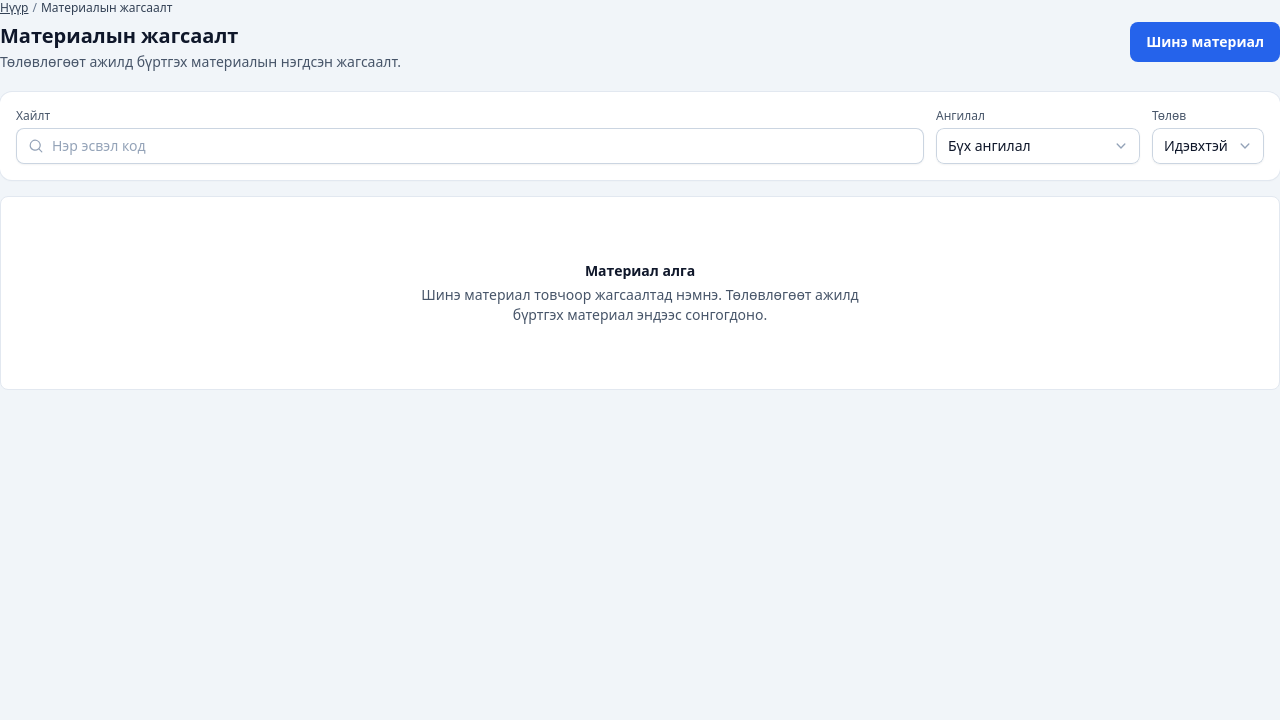
MaterialsPage › surfaces a duplicate-code rejection from the server against the field
Click the button "Шинэ материал": click(1205, 42) [1130,22,1279,62]
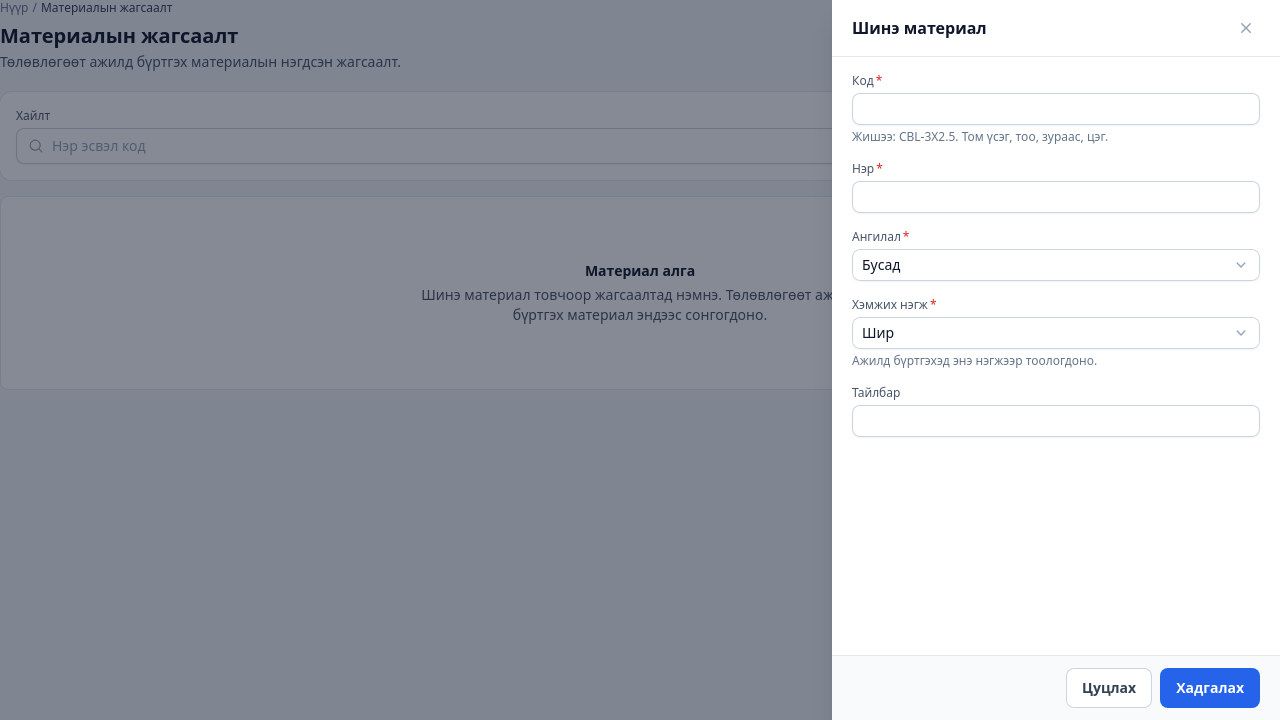
In the field labelled "Код*": (1056, 109) [852,93,1260,125], type "CBL-3X2.5"
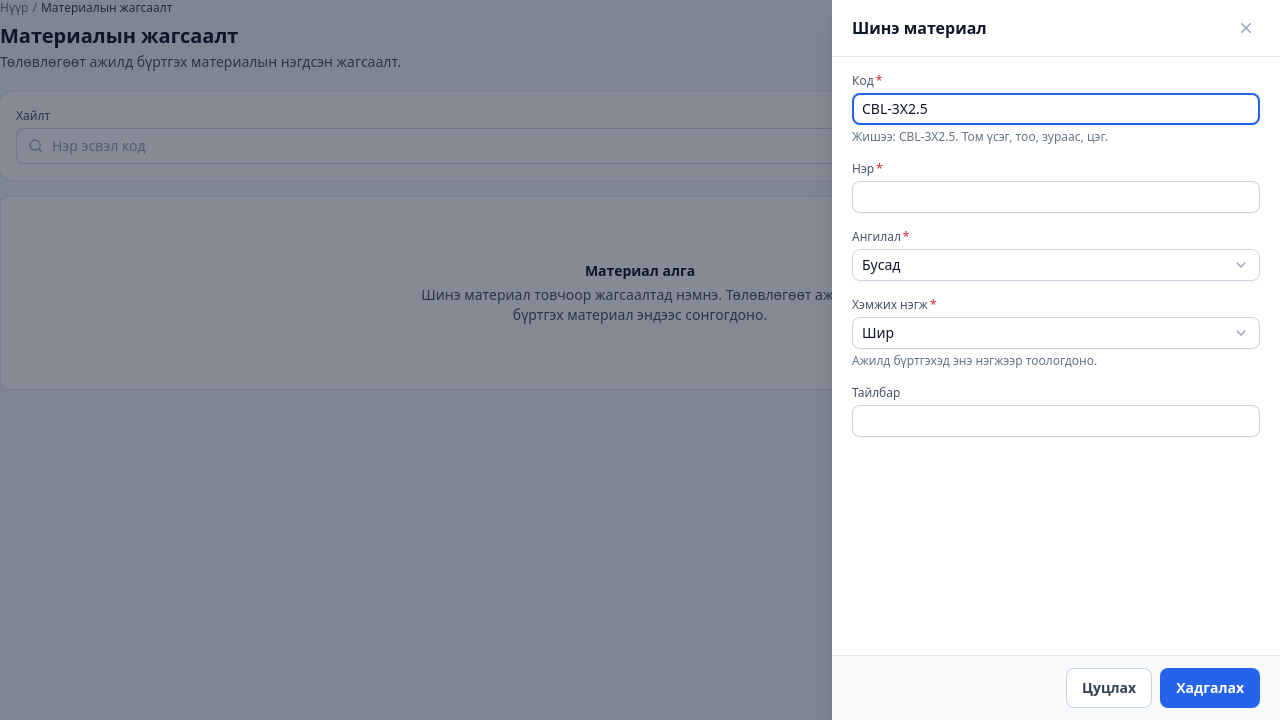
In the field labelled "Нэр*": (1056, 197) [852,181,1260,213], type "Давхардсан"
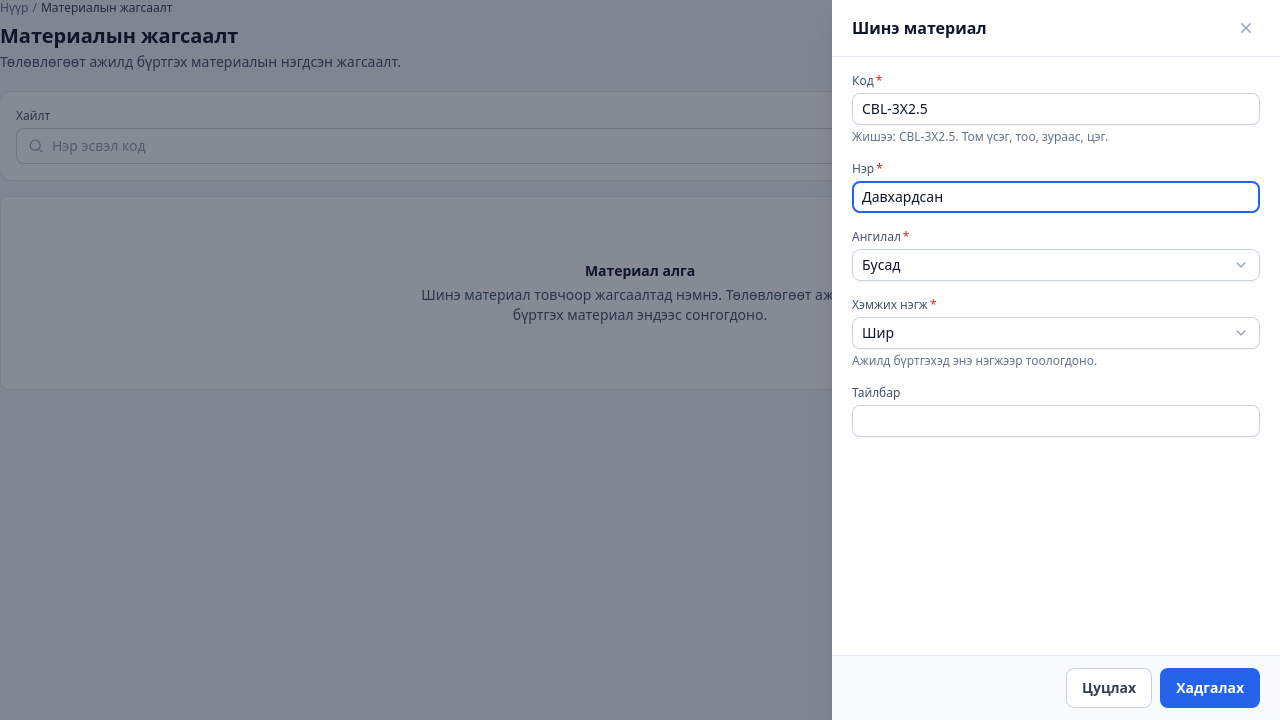
Click the button "Хадгалах": click(1210, 688) [1160,668,1260,708]
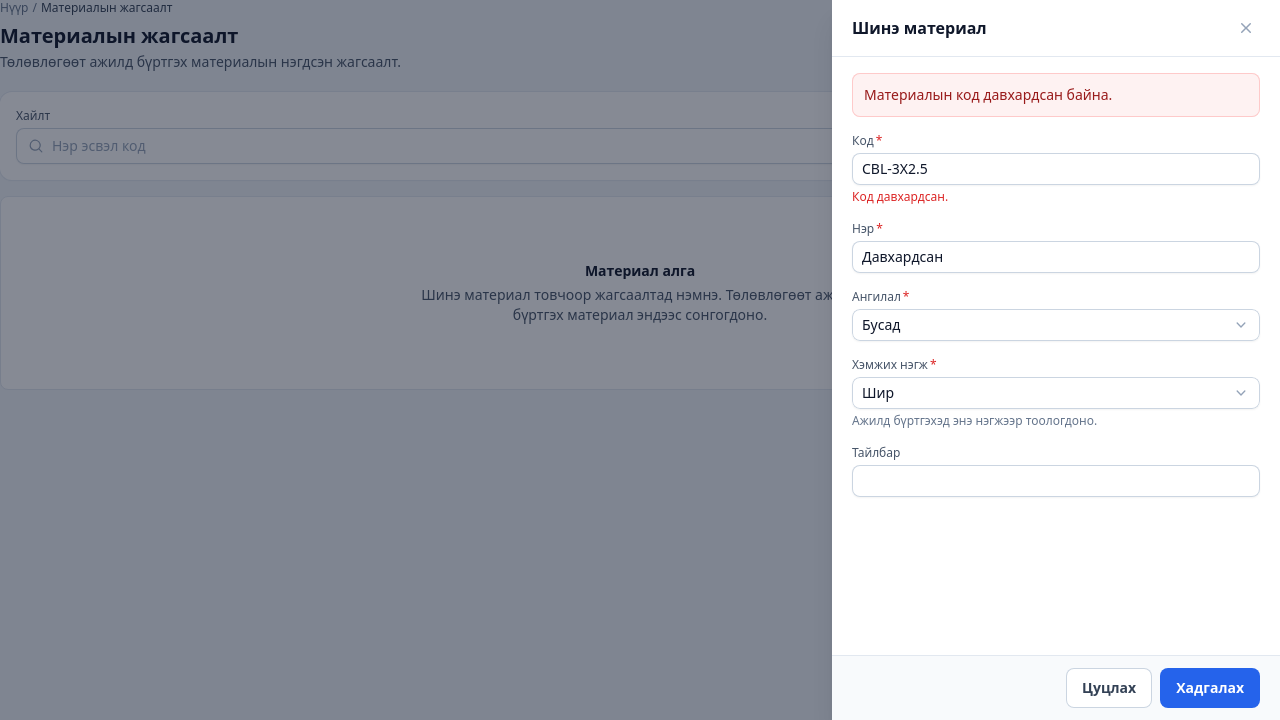
Now the text "Материалын код давхардсан байна." is shown, box [864,85,1112,104]
Now the text "Код давхардсан." is shown, box [852,188,948,205]
